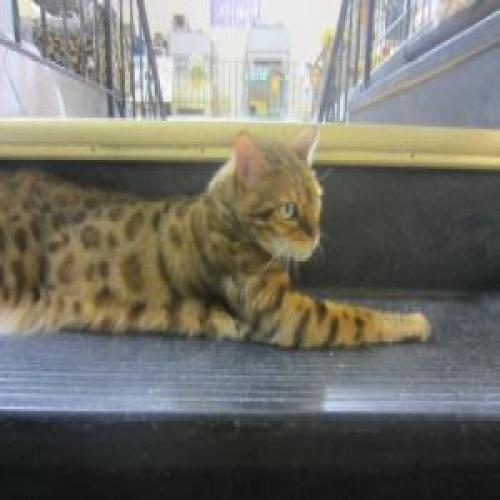cat-face: (222, 118, 342, 270)
